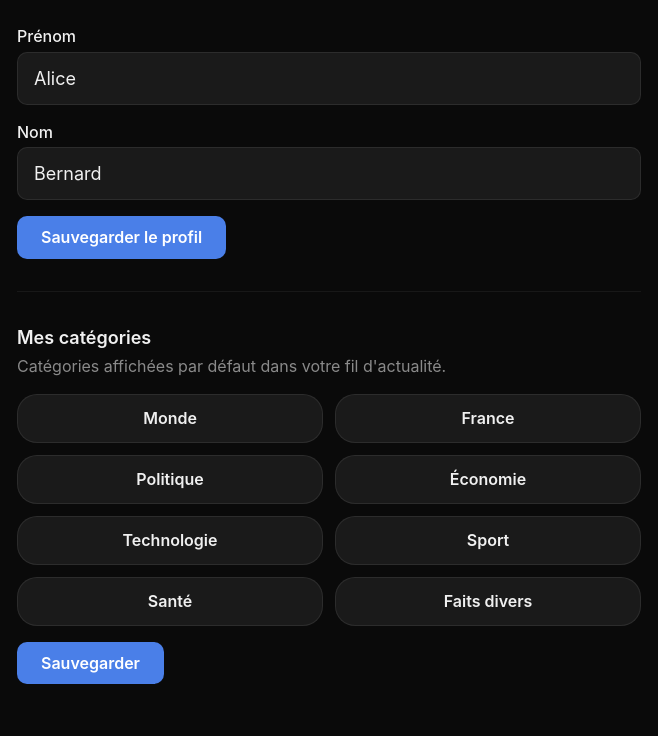
SettingsPage › section catégories › categories stay active after save
(page scrolled)
Click the button "Monde".
click(170, 419)  # box [17,394,323,443]
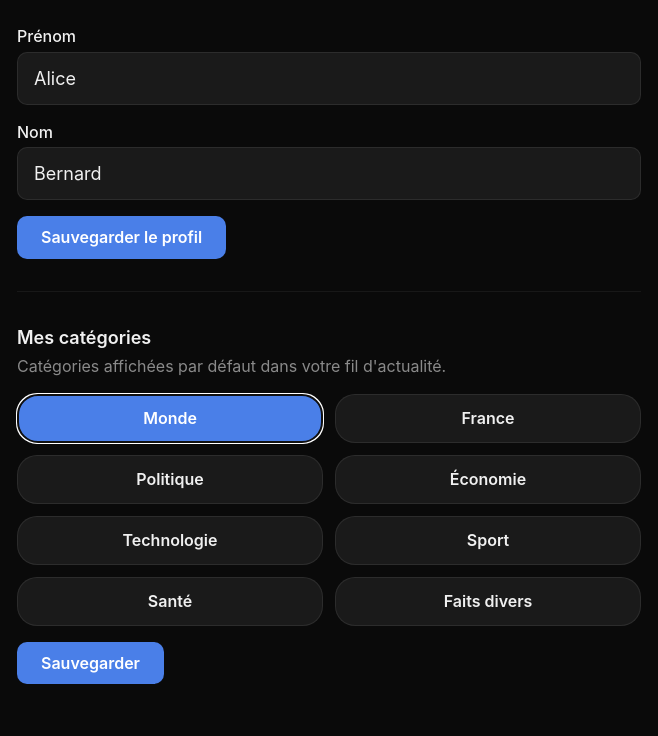
Click the button "Sauvegarder".
click(90, 663)  # box [17,642,164,684]
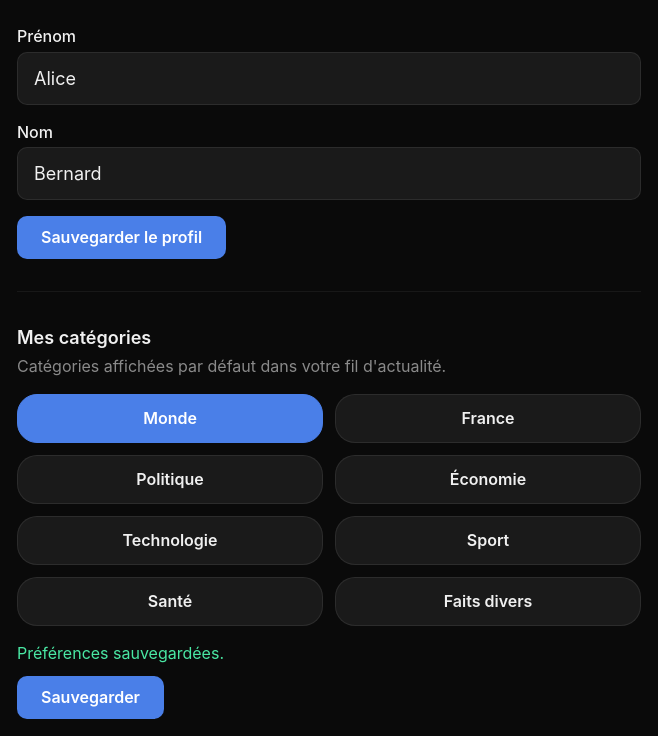
Expected: the text "Préférences sauvegardées." is shown, [17,642,224,662]
